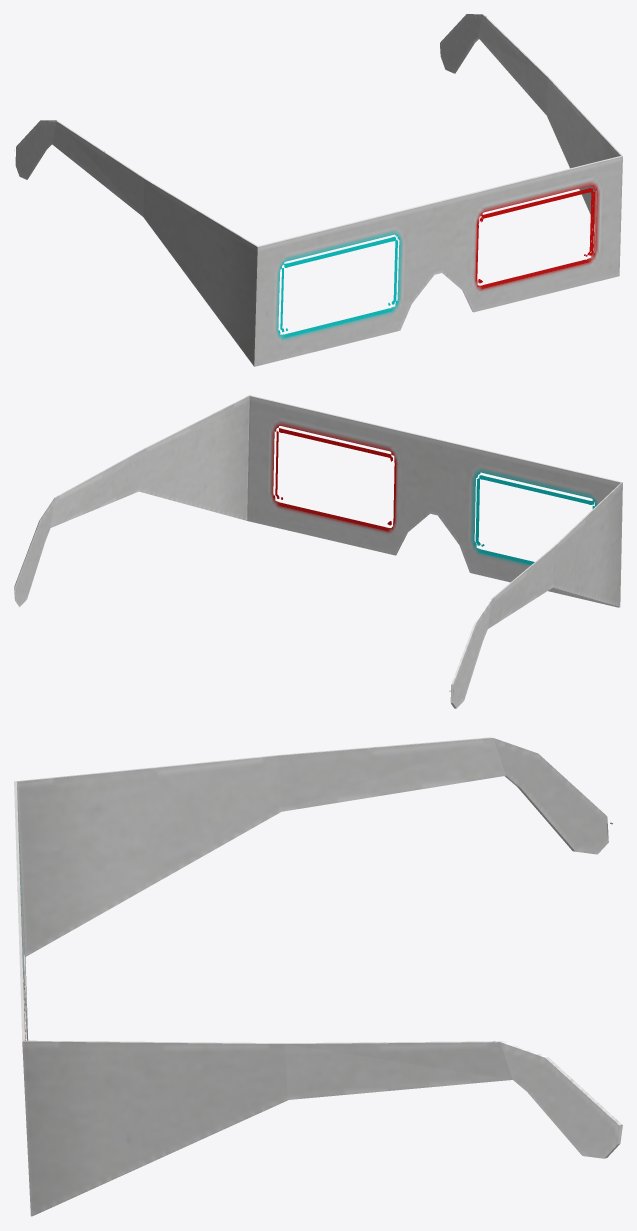
Rendered from mhw_ews_3d_glasses.glb.
3 renders of one model, top to bottom at view 1: azimuth 30°, elevation 25°; view 2: azimuth 150°, elevation 25°; view 3: azimuth 270°, elevation 25°, orthographic. The views are drawn at different scales.
Parts seen in each view (by area): view 1: mhw_ews_3d_glasses; view 2: mhw_ews_3d_glasses; view 3: mhw_ews_3d_glasses.
Part boxes in pixels (x1,y1,x2,y2): mhw_ews_3d_glasses: (14, 14, 622, 366); mhw_ews_3d_glasses: (14, 395, 622, 708); mhw_ews_3d_glasses: (14, 737, 622, 1216).
Bounding box in the file's own units: 0.1687 × 0.0509 × 0.1429.
1 material, 1 textured.
